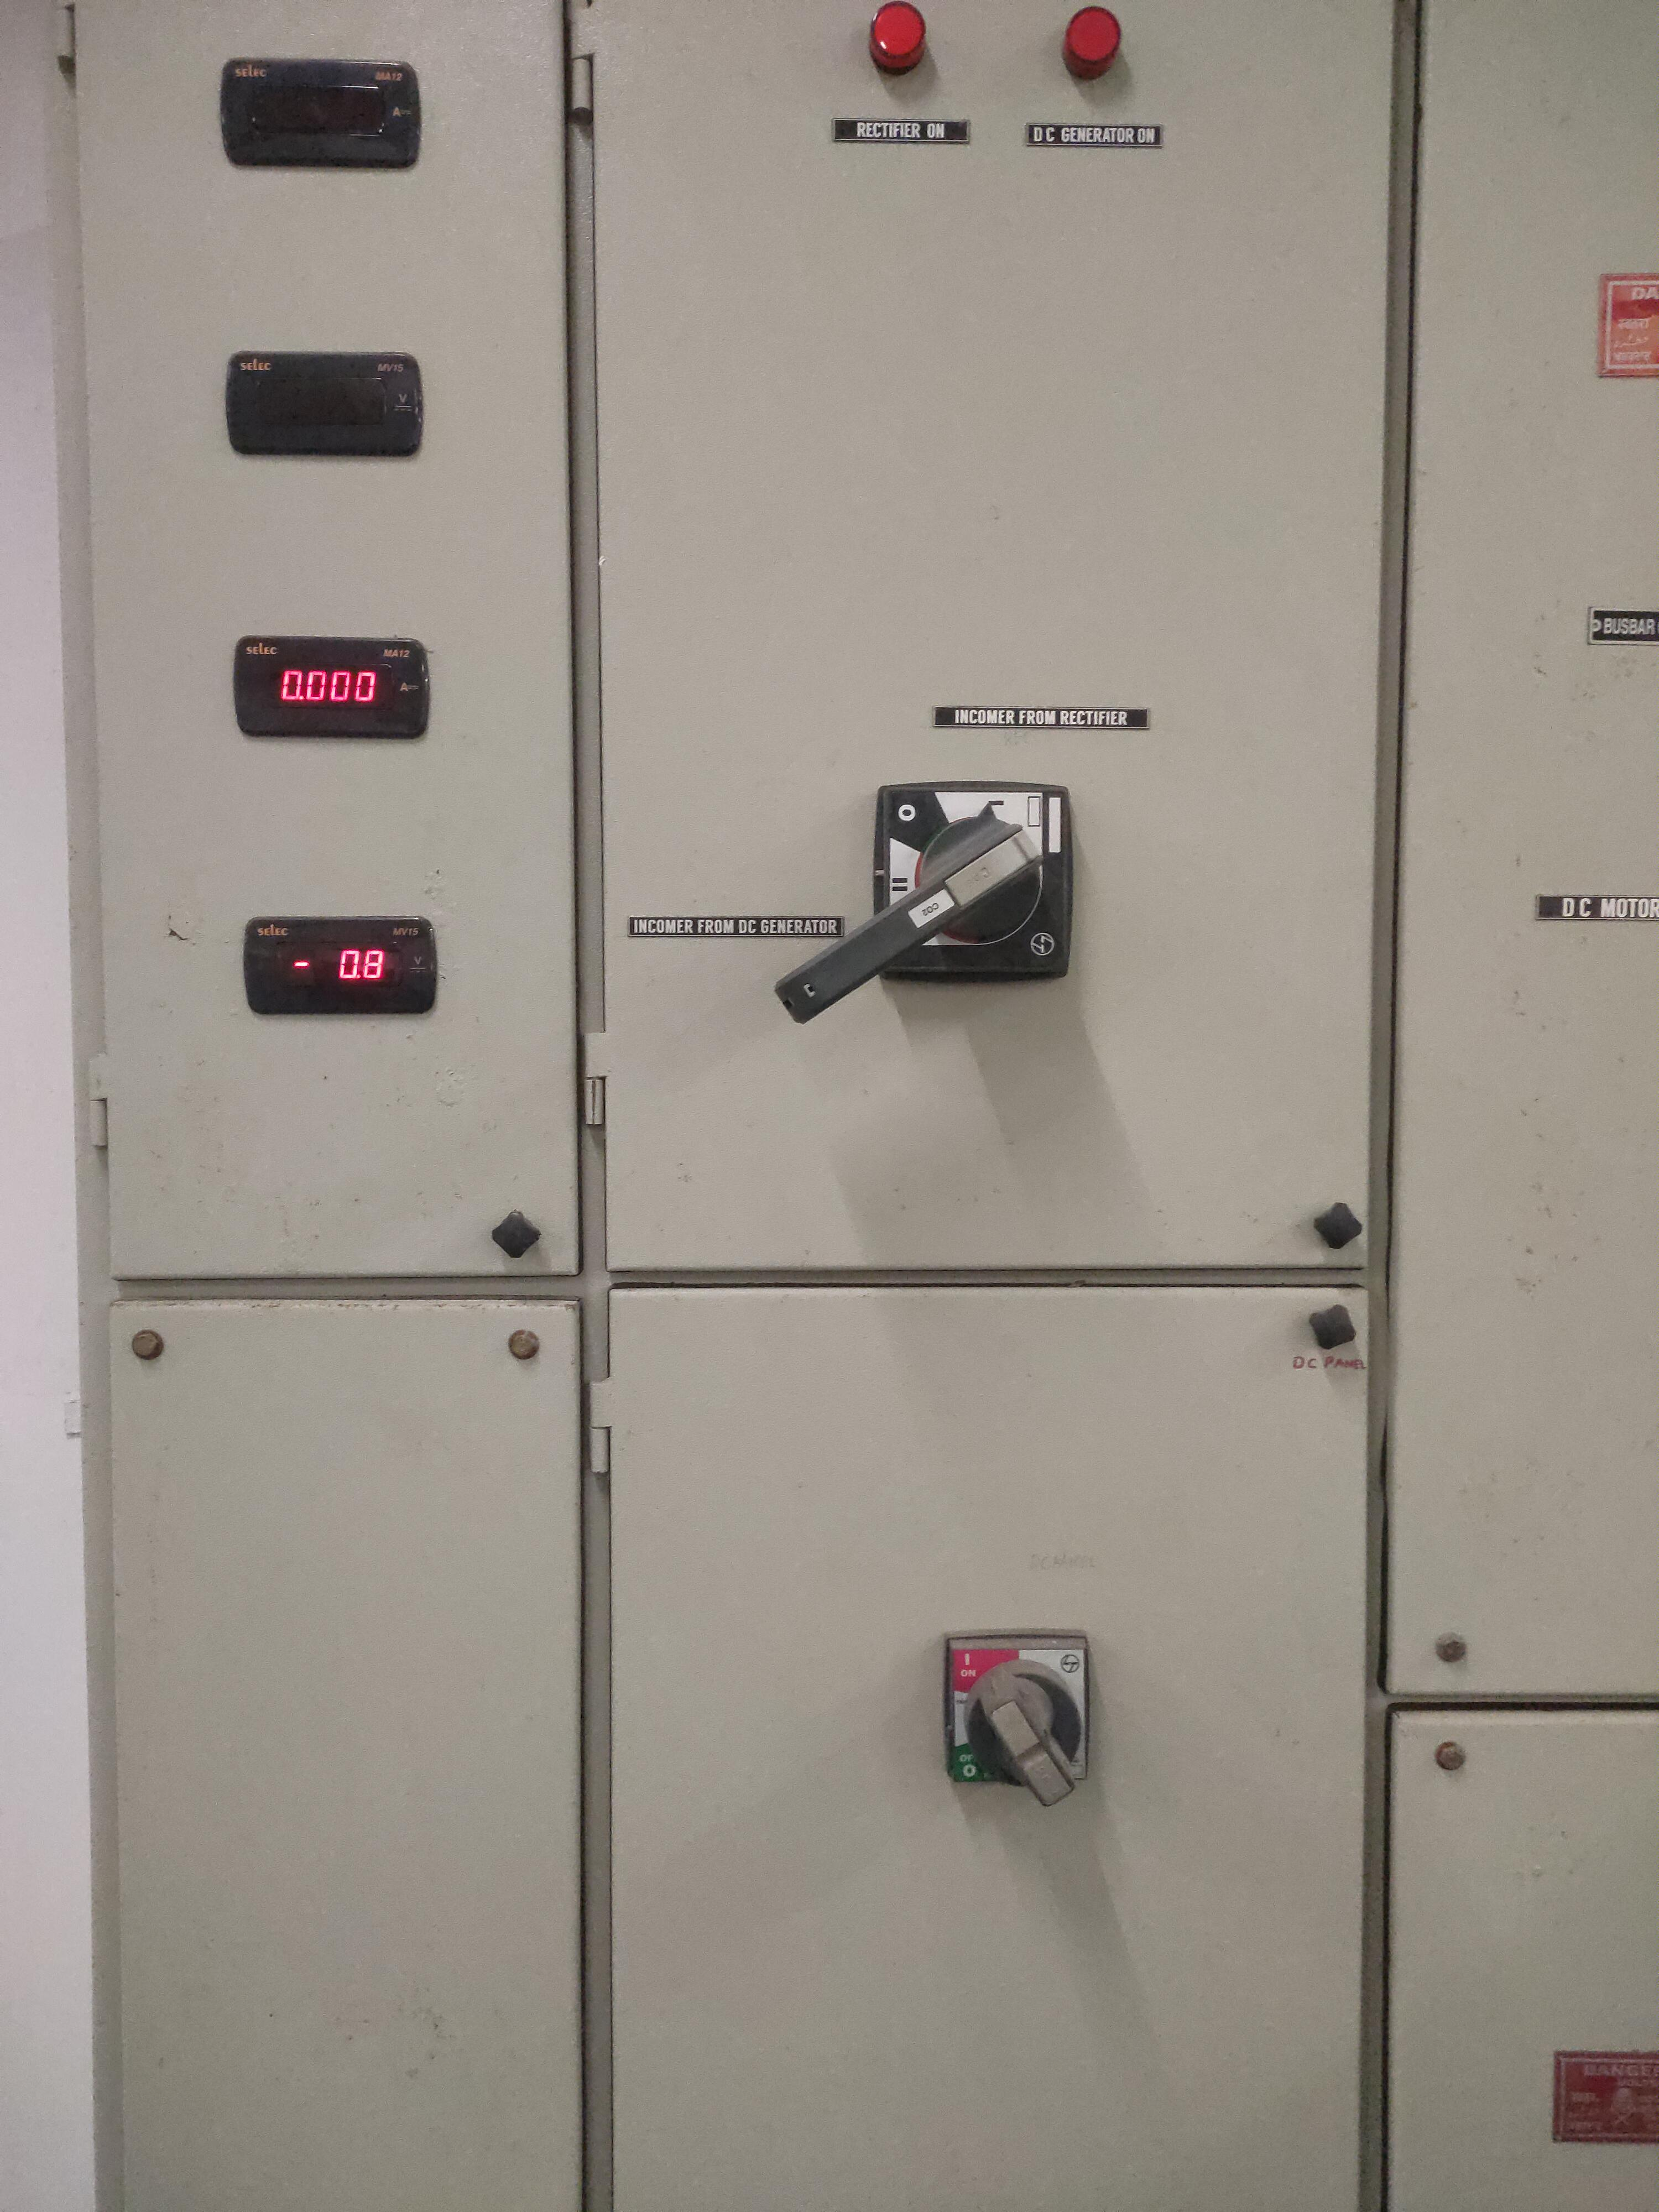Knob 1: (737, 745, 1138, 1049)
Knob 2: (908, 1604, 1138, 1815)
Light Indications: (786, 0, 1244, 190)
